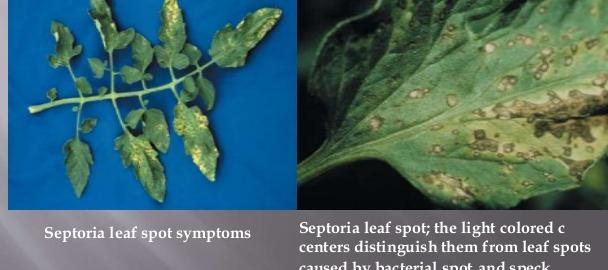Tomato Septoria leaf spot: (311, 0, 608, 206), (206, 0, 284, 80), (112, 130, 188, 204), (165, 98, 223, 181), (150, 0, 194, 79)
